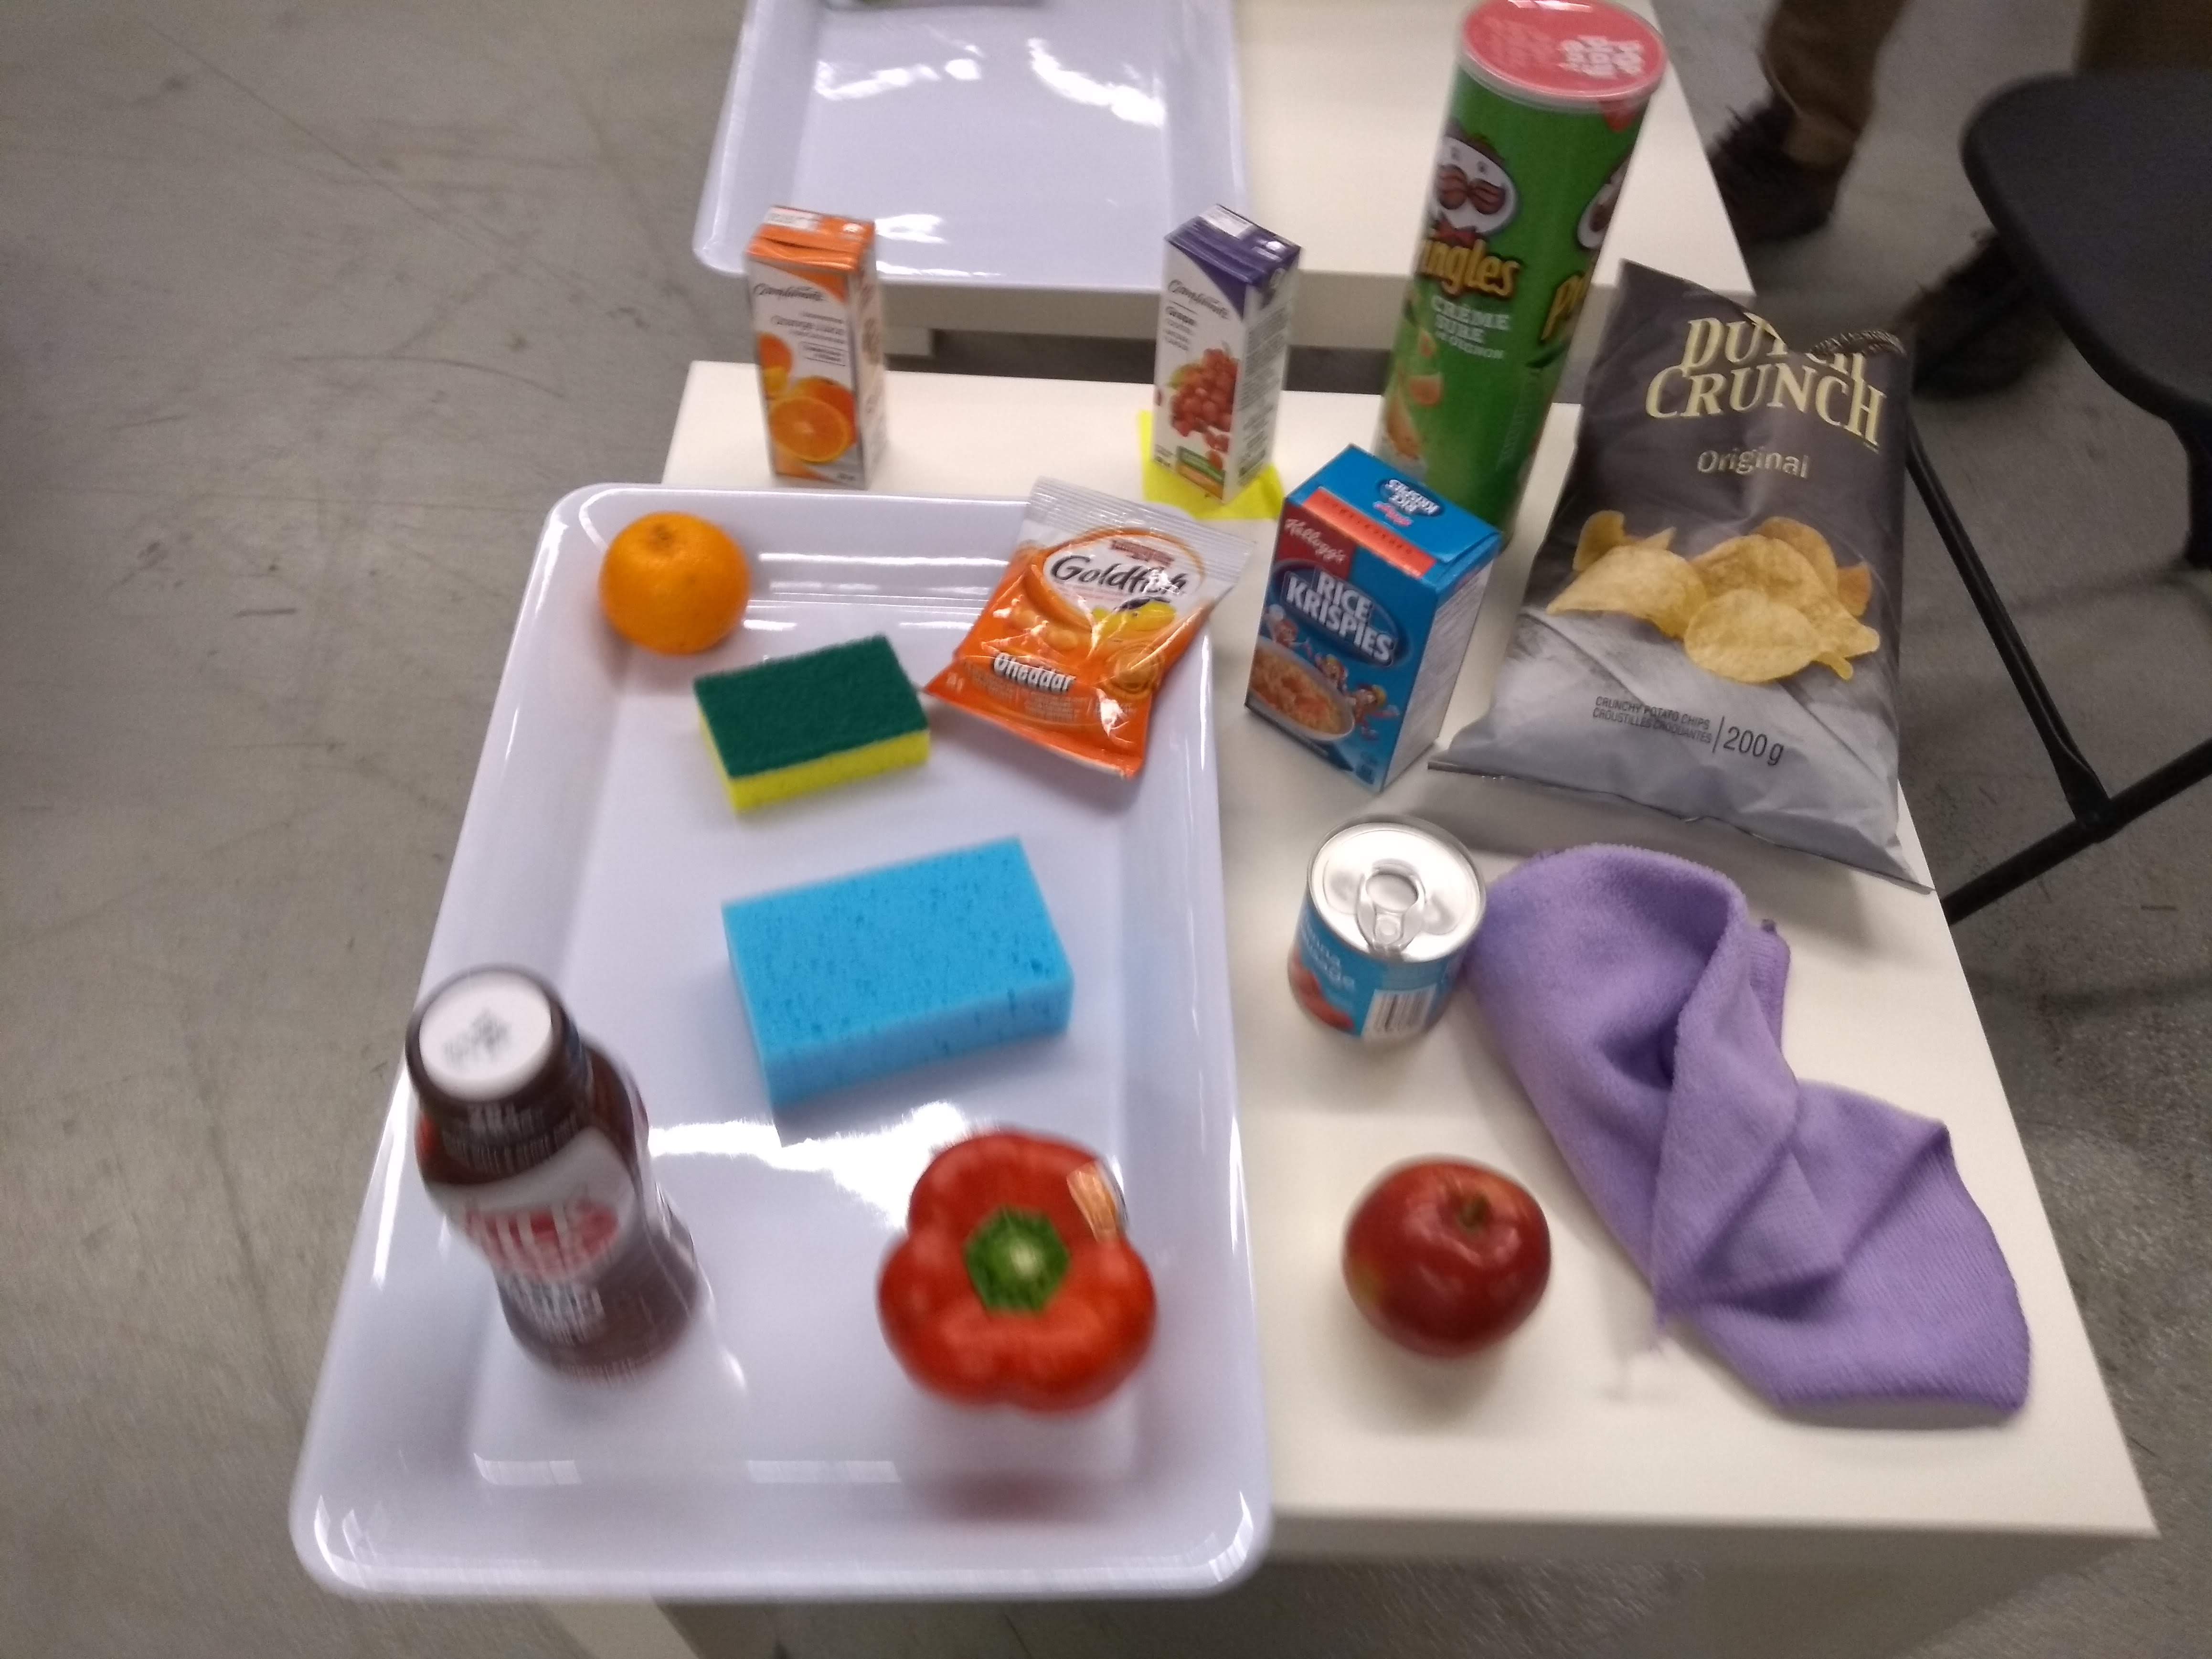apple: (1338, 1143, 1559, 1364)
cereal: (1240, 432, 1514, 798)
chocolate_drink: (388, 953, 725, 1398)
cloth_opl: (1460, 833, 2041, 1441)
crackers: (920, 471, 1282, 802)
grape_juice: (1143, 197, 1305, 502)
orange: (587, 504, 759, 664)
orange_juice: (737, 197, 916, 498)
paprika: (871, 1127, 1163, 1422)
potato_chips: (1418, 258, 1935, 903)
pringles: (1359, 0, 1679, 559)
sausages: (1280, 809, 1493, 1056)
scrubby: (685, 626, 946, 826)
sponge_opl: (714, 823, 1083, 1126)
